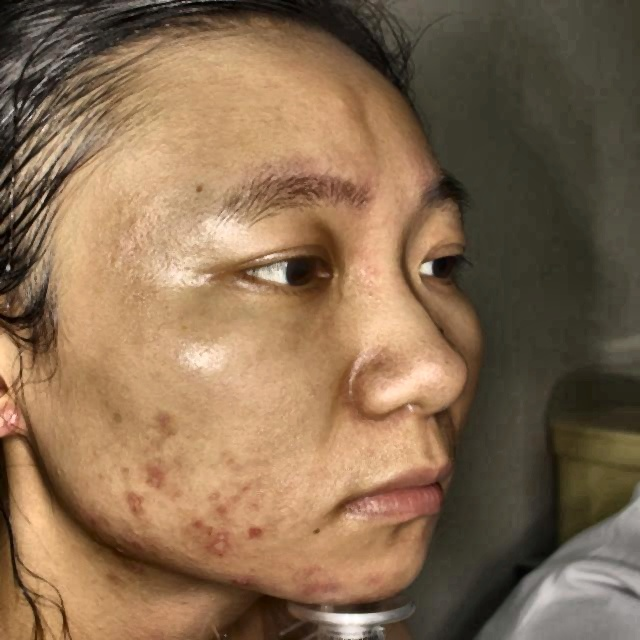pustule: (139, 464, 172, 491), (122, 486, 148, 516), (207, 532, 232, 562), (241, 519, 267, 542), (207, 495, 234, 516), (230, 571, 259, 590), (322, 574, 348, 594), (298, 556, 322, 577), (298, 582, 319, 602), (188, 514, 205, 532)
